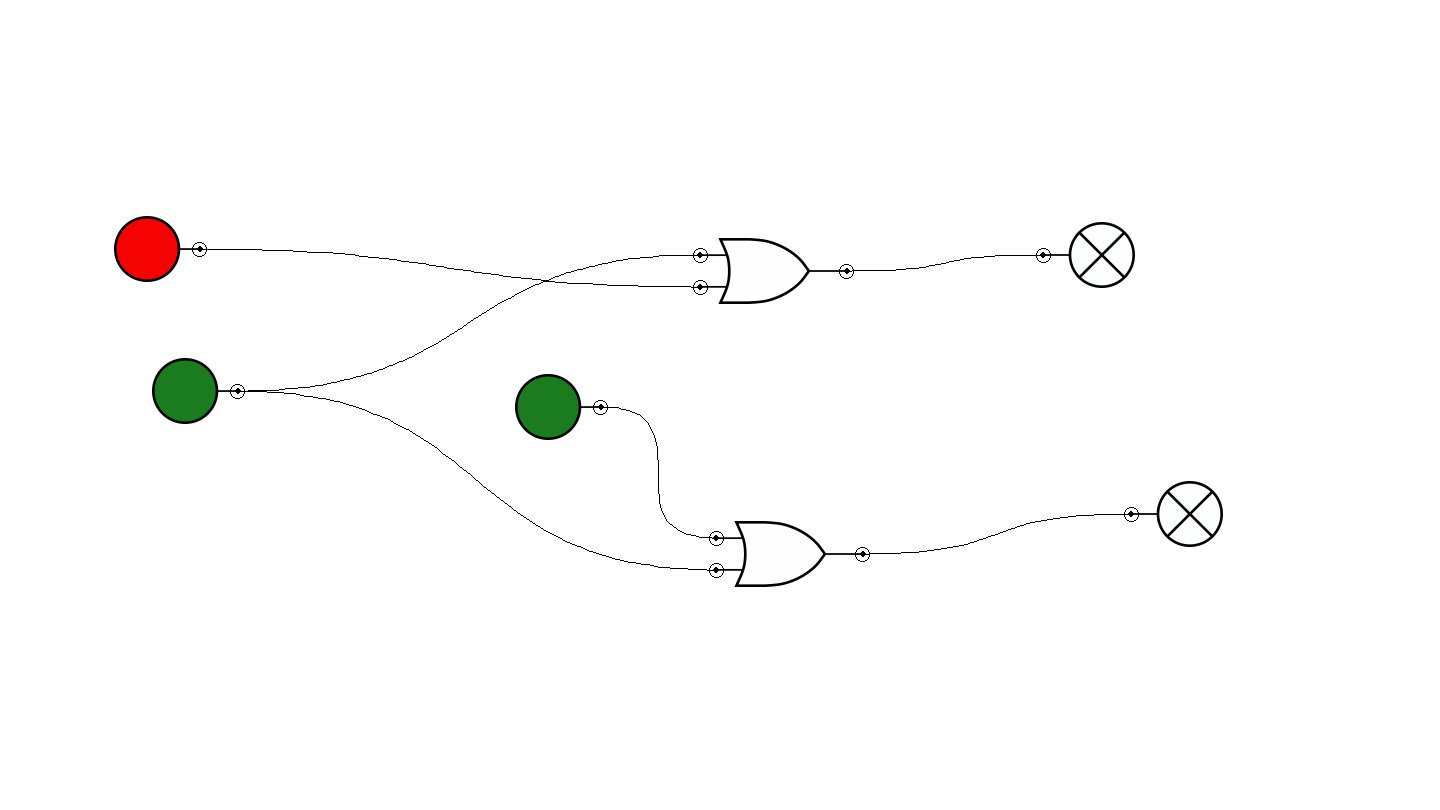bulb: (1124, 481, 1223, 547), (1036, 222, 1135, 288)
or: (693, 238, 854, 304), (709, 521, 870, 587)
switch_False: (114, 216, 207, 282)
switch_True: (515, 374, 608, 440), (152, 358, 245, 424)
